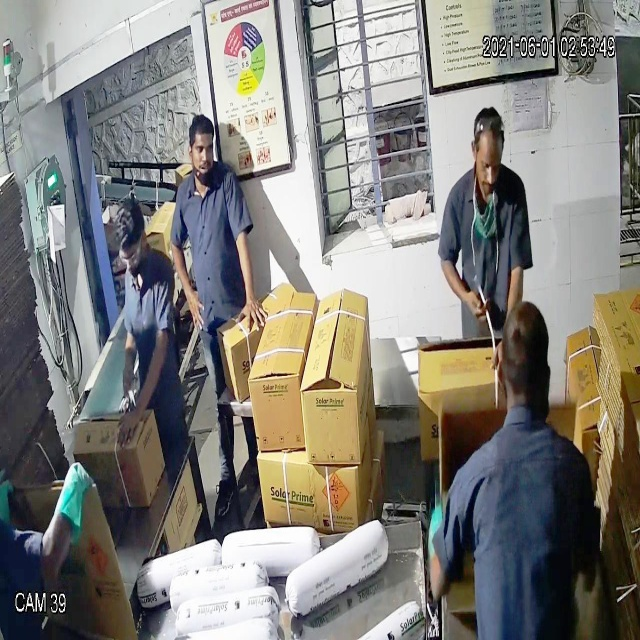Gafas: (118, 237, 145, 274)
Sin_gafas: (467, 137, 503, 183)
